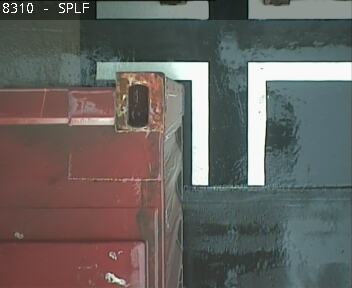groundmarker_1: (94, 60, 349, 184)
